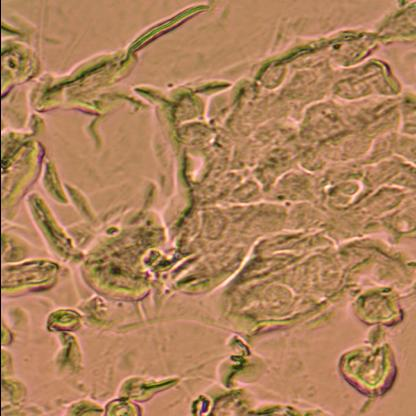Stage I: (138, 28, 414, 376)
